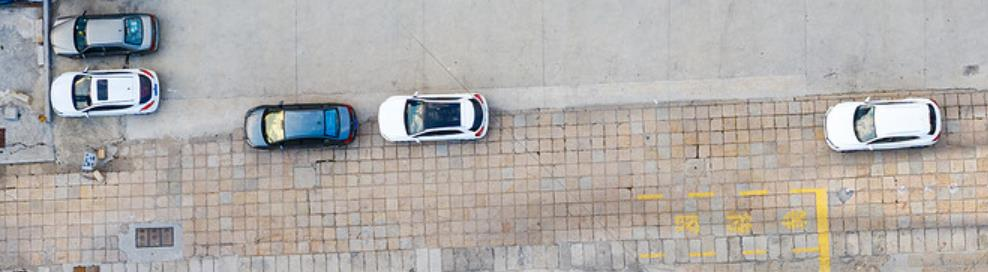car: (820, 95, 944, 155), (378, 89, 494, 147), (49, 64, 163, 120), (46, 9, 162, 63), (243, 99, 356, 152)
